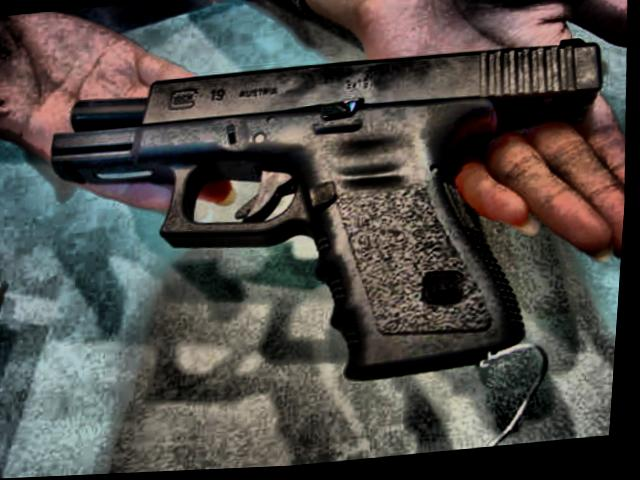pistol: (33, 35, 616, 415)
